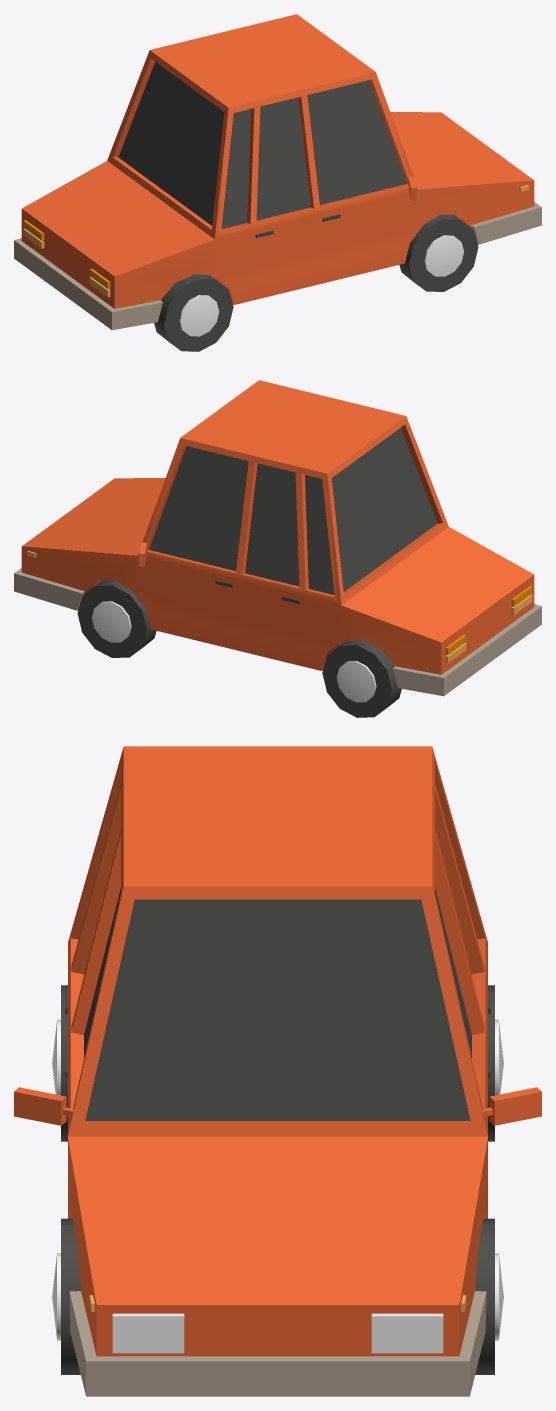
The model's file is car_orange.fbx.
3 renders of one model, top to bottom at view 1: azimuth 30°, elevation 25°; view 2: azimuth 150°, elevation 25°; view 3: azimuth 270°, elevation 25°, orthographic. The views are drawn at different scales.
Parts seen in each view (by area): view 1: car_orange; view 2: car_orange; view 3: car_orange.
Part boxes in pixels (left/top/right/bottom): car_orange: left=14, top=14, right=541, bottom=351; car_orange: left=14, top=380, right=541, bottom=717; car_orange: left=14, top=746, right=541, bottom=1396.
Bounding box in the file's own units: 290 × 142 × 158.
1 material, 1 textured.
